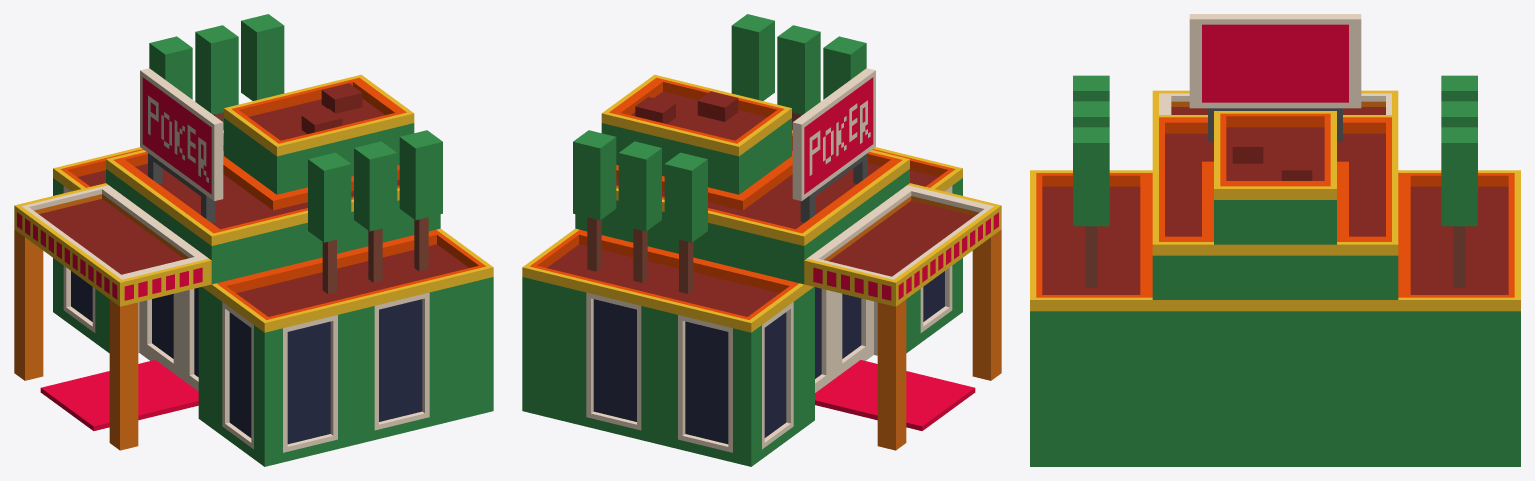
File: Casino.obj
3 views of the same model, side by side, from view 1: azimuth 30°, elevation 25°; view 2: azimuth 150°, elevation 25°; view 3: azimuth 270°, elevation 25° (orthographic). The views are drawn at different scales.
Bounding box in the file's own units: 7 × 6 × 8.
Materials: 1 (1 with a texture image).
